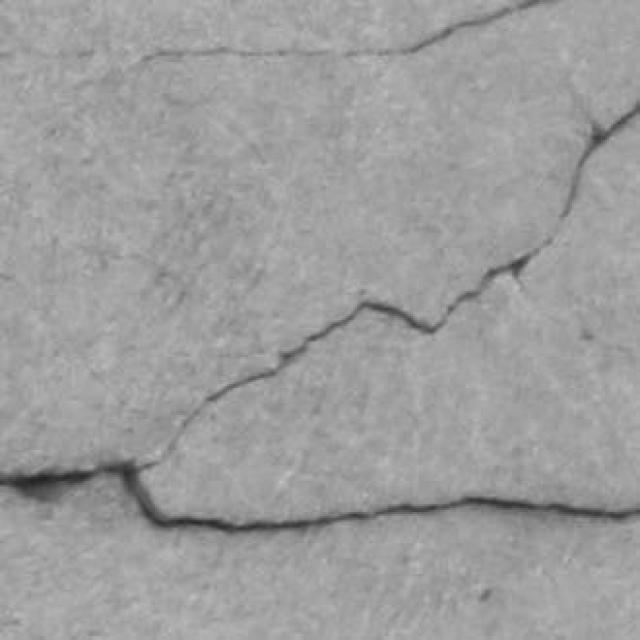crack: (150, 101, 639, 465), (0, 466, 639, 533), (138, 0, 562, 63), (514, 101, 639, 279)
